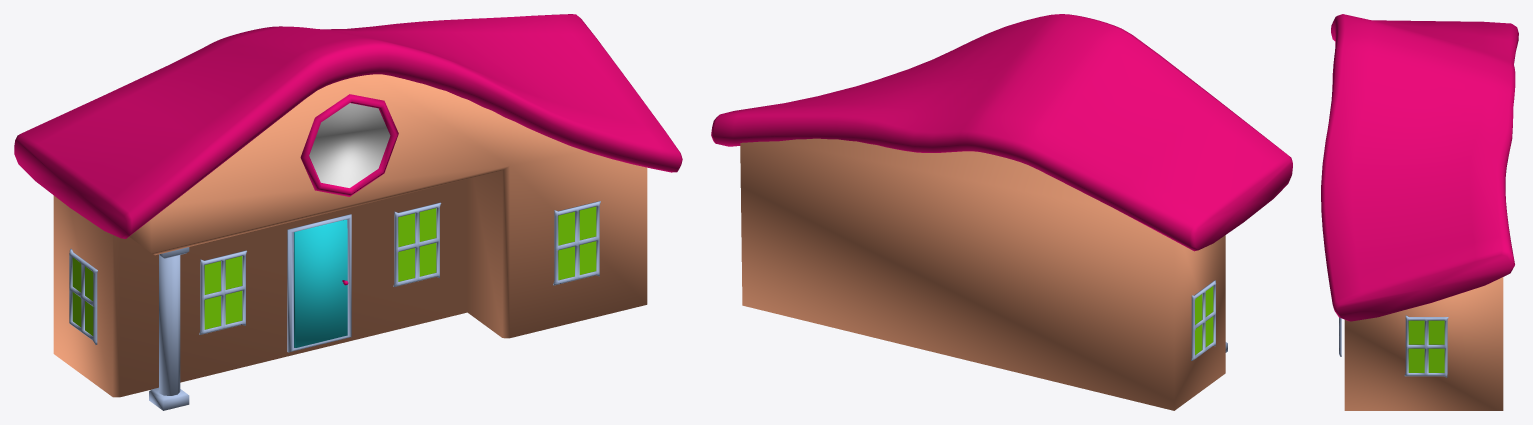
The model's file is House Wide.fbx.
The picture shows the model from 3 angles, left to right: view 1: azimuth 30°, elevation 25°; view 2: azimuth 150°, elevation 25°; view 3: azimuth 270°, elevation 25°; orthographic projection. The views are drawn at different scales.
Visible parts, largest first — view 1: Building Long, Building Long roof, Building Long details, Building Long Ornament; view 2: Building Long, Building Long roof, Building Long details; view 3: Building Long roof, Building Long, Building Long details.
Part boxes in pixels (x1=…): Building Long: x1=53, y1=74, x2=647, y2=397; Building Long roof: x1=14, y1=14, x2=682, y2=238; Building Long details: x1=69, y1=201, x2=600, y2=410; Building Long Ornament: x1=300, y1=94, x2=398, y2=196; Building Long: x1=740, y1=138, x2=1225, y2=410; Building Long roof: x1=711, y1=14, x2=1292, y2=251; Building Long details: x1=1191, y1=280, x2=1227, y2=360; Building Long roof: x1=1321, y1=14, x2=1518, y2=321; Building Long: x1=1344, y1=277, x2=1503, y2=410; Building Long details: x1=1339, y1=315, x2=1448, y2=377.
Size of the model in its own units: 2518 by 1426 by 955.
